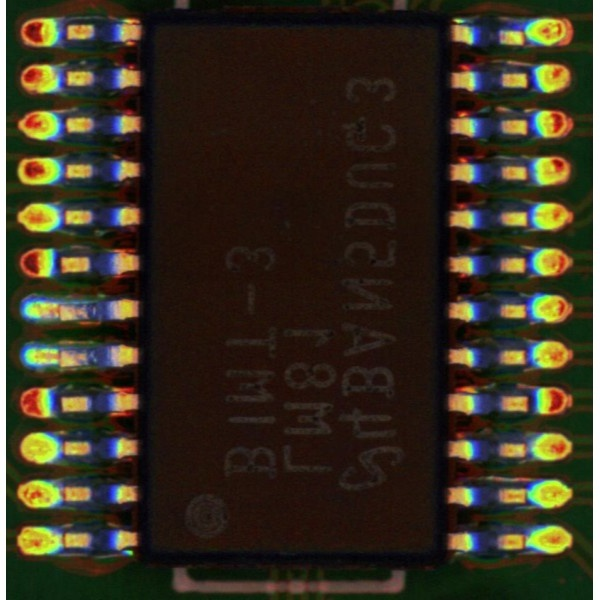Bad_podu: (45, 304, 71, 321), (46, 352, 68, 364)
